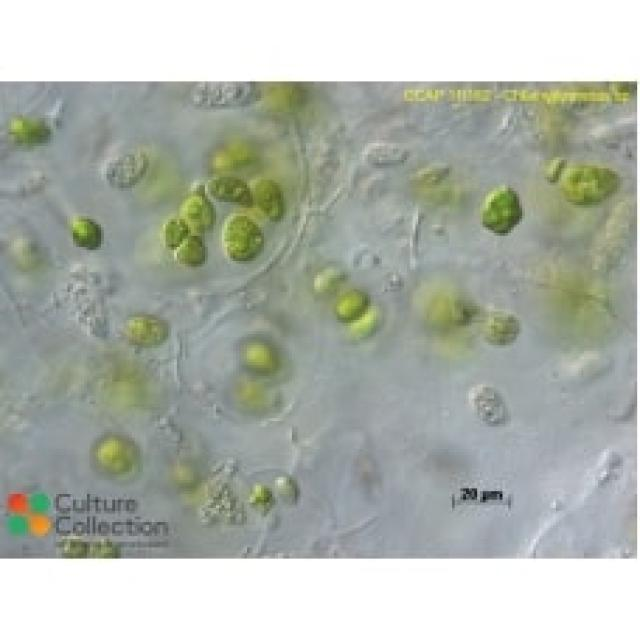Green Algae: (477, 185, 525, 239), (561, 163, 626, 202), (477, 306, 522, 351), (6, 109, 56, 149), (96, 435, 138, 477), (222, 214, 261, 258), (205, 177, 258, 208), (253, 174, 286, 222), (238, 337, 280, 373), (70, 213, 104, 253), (124, 312, 168, 342), (182, 193, 210, 236), (337, 286, 368, 320), (174, 236, 205, 261)
